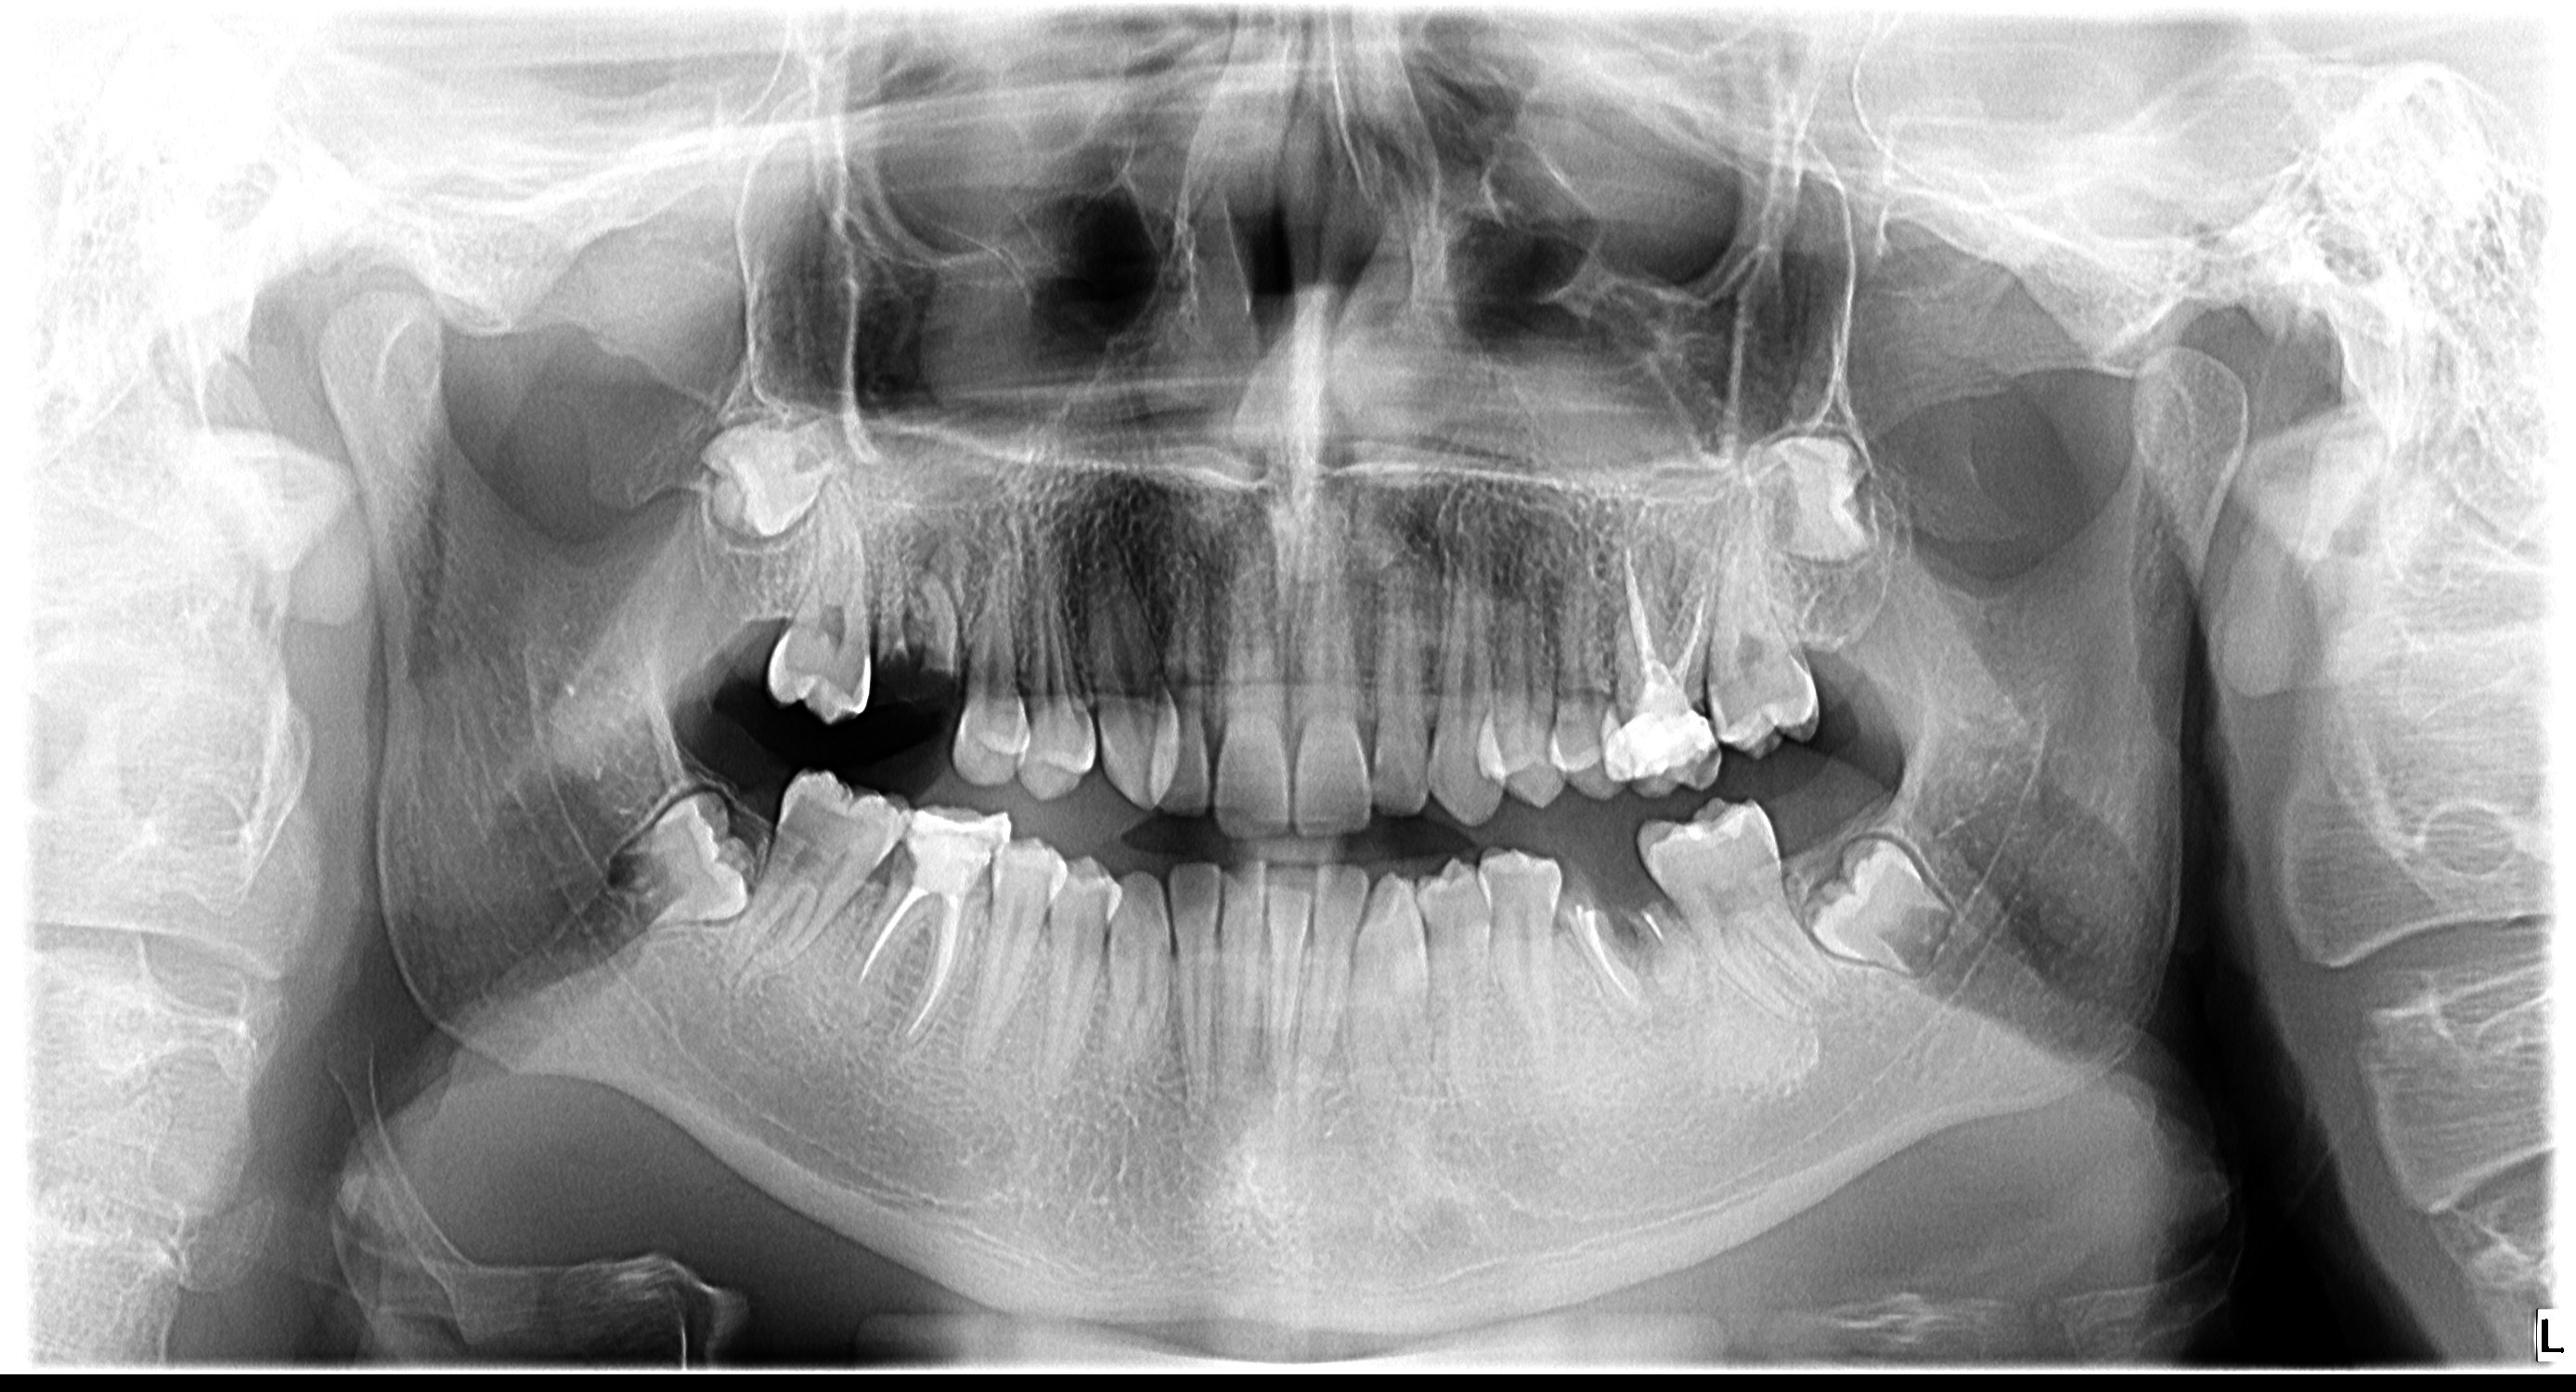CAR: (963, 847, 999, 912), (1670, 693, 1725, 725), (1357, 756, 1391, 794)
END: (834, 893, 968, 1061), (1610, 526, 1720, 675), (1577, 907, 1620, 1010)
IMT: (1797, 807, 1985, 1020), (586, 768, 779, 960), (682, 386, 846, 567), (1738, 411, 1887, 588)
OBT: (1595, 706, 1732, 794), (901, 807, 1021, 893), (1677, 813, 1768, 847)
ROT: (1543, 874, 1656, 1023), (896, 549, 981, 687), (1608, 883, 1702, 1001), (848, 588, 923, 689)
